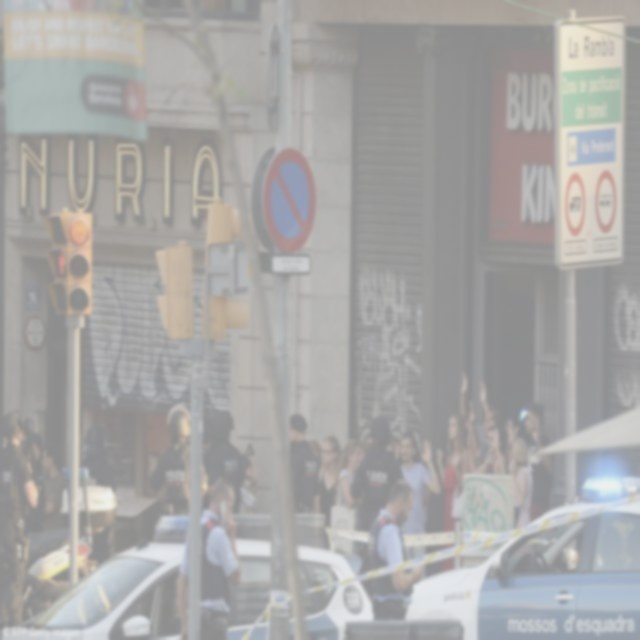pessoa: (174, 475, 244, 639), (348, 414, 406, 586), (0, 408, 40, 632), (364, 478, 426, 622), (148, 404, 209, 515), (398, 430, 442, 583), (505, 401, 557, 526), (76, 421, 116, 567), (330, 438, 366, 557), (435, 411, 470, 532), (288, 413, 322, 514), (212, 409, 254, 487), (568, 522, 626, 576), (317, 434, 342, 551), (16, 413, 44, 517), (506, 437, 534, 531), (458, 370, 491, 444), (468, 399, 504, 465), (40, 445, 66, 530), (467, 424, 508, 475), (238, 458, 260, 509), (197, 402, 210, 473), (488, 413, 506, 441), (357, 432, 373, 460)
